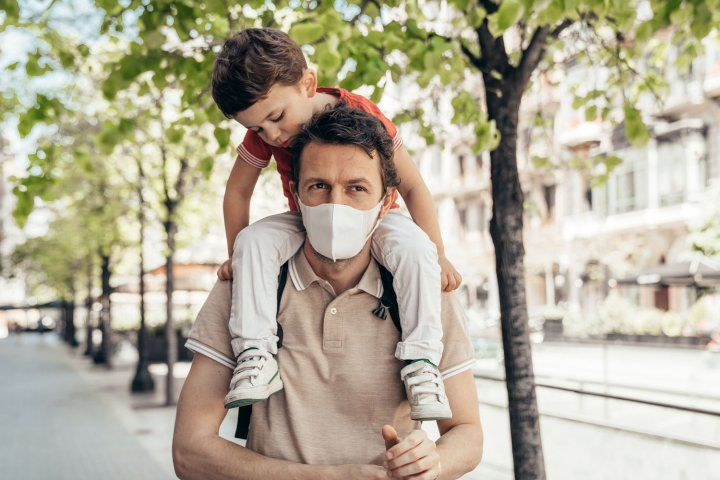with_mask: (299, 140, 379, 260)
without_mask: (242, 80, 313, 150)
